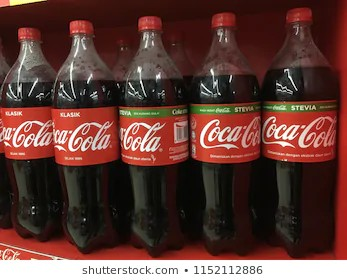coke-bottle-2l: (188, 7, 266, 256), (267, 5, 338, 253), (121, 12, 188, 254), (60, 17, 119, 254), (1, 25, 54, 237)
